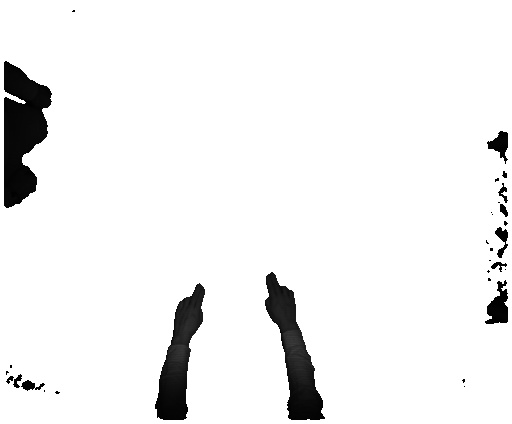hand: (168, 282, 207, 342), (264, 272, 303, 329)
